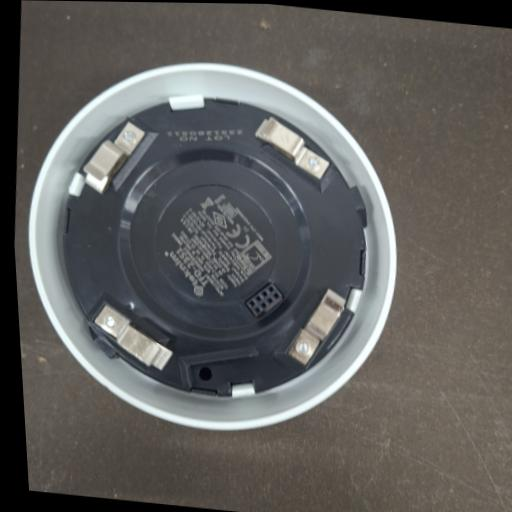yayli: (94, 304, 172, 370), (255, 117, 330, 180), (84, 122, 145, 194), (288, 289, 345, 365)
